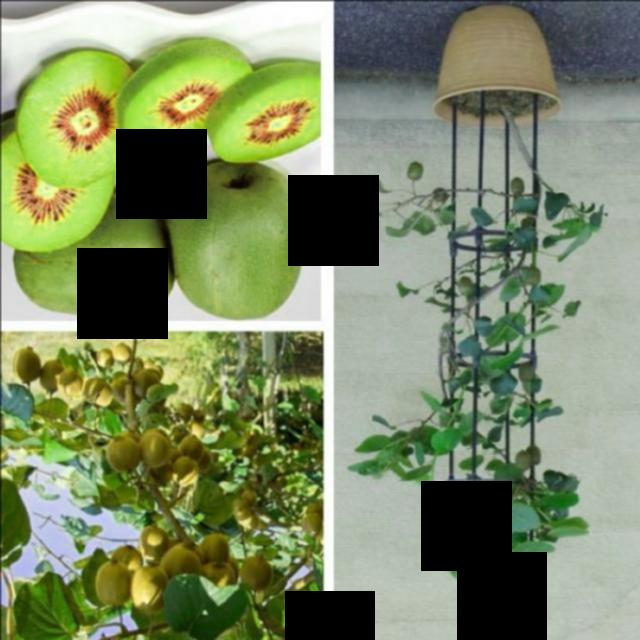kiwi: (170, 161, 303, 320), (12, 194, 172, 319), (162, 546, 202, 599), (132, 566, 170, 615), (98, 563, 131, 609), (205, 562, 237, 607), (202, 535, 233, 577), (112, 548, 143, 587), (141, 431, 172, 470), (109, 439, 141, 473), (242, 558, 273, 593), (16, 349, 43, 384), (142, 527, 168, 562), (174, 458, 199, 490), (180, 439, 203, 473), (59, 369, 85, 399), (136, 371, 161, 399), (41, 363, 64, 393), (95, 385, 112, 411), (87, 381, 105, 403), (115, 344, 130, 367), (97, 350, 114, 369), (194, 422, 207, 440)
